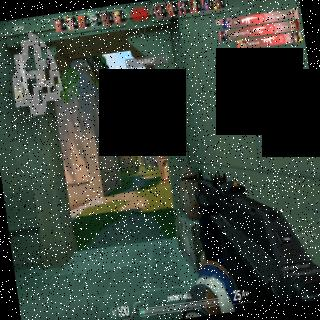ENEMY-BODY: (154, 156, 158, 168)
ENEMY-HEAD: (154, 157, 156, 159)
